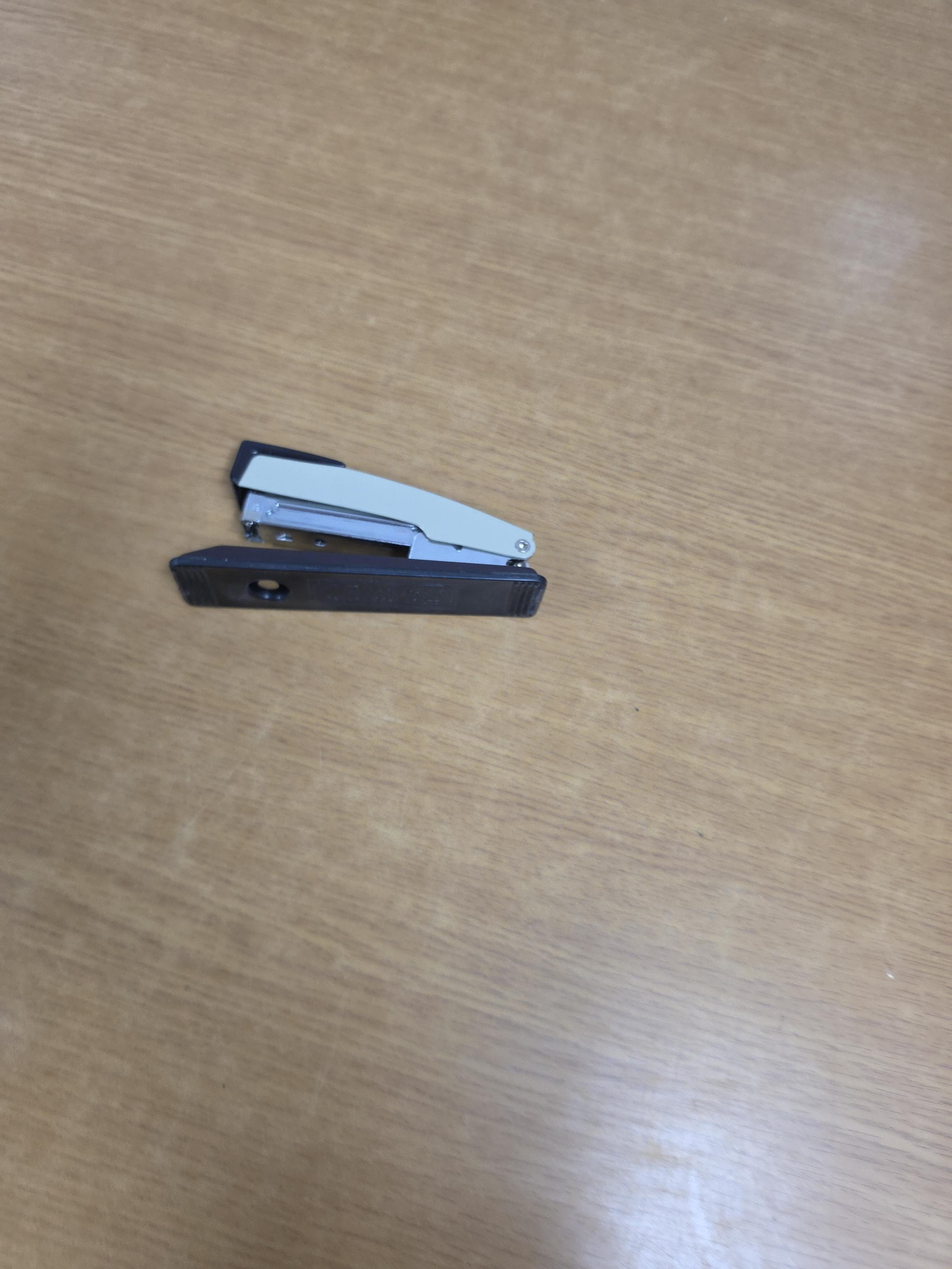stapler: (168, 439, 548, 619)
